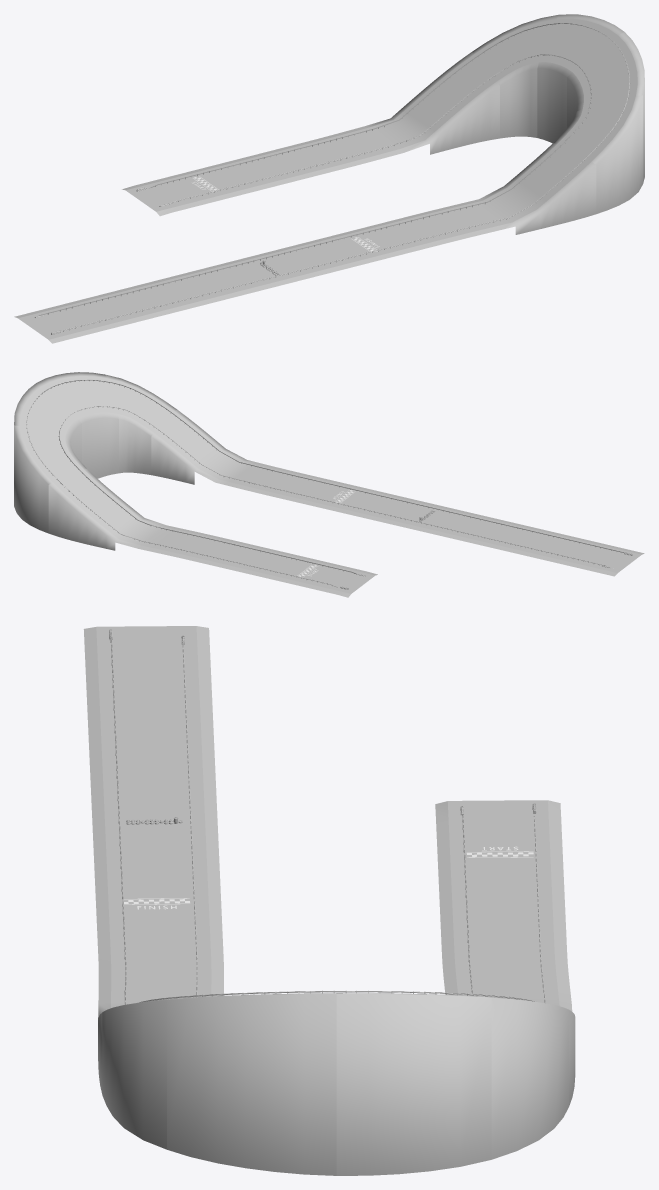
File: Road30D30.fbx
The picture shows the model from 3 angles, top to bottom: view 1: azimuth 30°, elevation 25°; view 2: azimuth 150°, elevation 25°; view 3: azimuth 270°, elevation 25°; orthographic projection. The views are drawn at different scales.
Visible parts, largest first — view 1: Markers0.013, Markers7.013, SCutR3.013, Markers2.013, SCutL7.013, SCutR2.013, Markers1.013, SCutL6.013, Markers8.013, SCutL5.013, SCutR0.013, Markers4.013 (+19 smaller); view 2: Markers0.013, SCutR7.013, Markers7.013, Markers2.013, SCutR6.013, SCutL4.013, Markers1.013, SCutL2.013, SCutL3.013, Markers8.013, SCutL0.013, Markers4.013 (+19 smaller); view 3: SCutR4.013, SCutR5.013, Markers0.013, SCutR6.013, Markers1.013, SCutR3.013, Markers8.013, SCutR0.013, SCutL0.013, Markers9.013, SCutR1.013, SCutL1.013 (+12 smaller).
Part boxes in pixels (x1,y1,x2,y2): Markers0.013: (22, 262, 275, 336); Markers7.013: (325, 58, 493, 158); SCutR3.013: (587, 95, 642, 213); Markers2.013: (413, 147, 586, 237); SCutL7.013: (347, 78, 499, 165); SCutR2.013: (435, 159, 596, 243); Markers1.013: (254, 222, 432, 277); SCutL6.013: (493, 56, 541, 138); Markers8.013: (203, 143, 346, 189); SCutL5.013: (537, 56, 578, 143); SCutR0.013: (44, 278, 283, 343); Markers4.013: (579, 41, 629, 106); Markers0.013: (422, 510, 637, 570); SCutR7.013: (48, 480, 186, 557); Markers7.013: (57, 471, 203, 551); Markers2.013: (157, 414, 301, 491); SCutR6.013: (14, 425, 56, 533); SCutL4.013: (73, 407, 118, 478); Markers1.013: (285, 479, 437, 523); SCutL2.013: (151, 430, 284, 497); SCutL3.013: (116, 409, 156, 474); Markers8.013: (187, 539, 308, 576); SCutL0.013: (415, 524, 620, 576); Markers4.013: (47, 381, 116, 413); SCutR4.013: (167, 993, 336, 1175); SCutR5.013: (336, 993, 491, 1175); Markers0.013: (110, 626, 190, 819); SCutR6.013: (486, 996, 568, 1159); Markers1.013: (119, 819, 196, 951); SCutR3.013: (102, 998, 174, 1149); Markers8.013: (465, 861, 540, 963); SCutR0.013: (83, 626, 118, 821); SCutL0.013: (182, 626, 217, 820); Markers9.013: (462, 800, 536, 861); SCutR1.013: (92, 819, 124, 953); SCutL1.013: (190, 819, 223, 952).
Bounding box in the file's own units: 26445 × 4198 × 10295.
